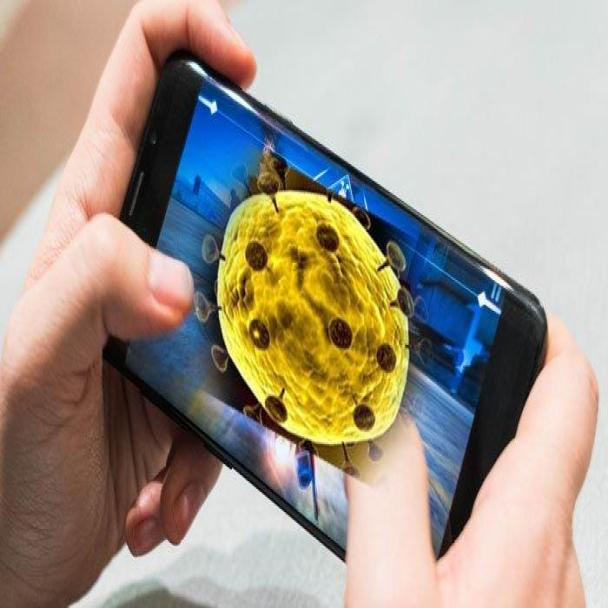Handphone: (73, 39, 561, 608)
